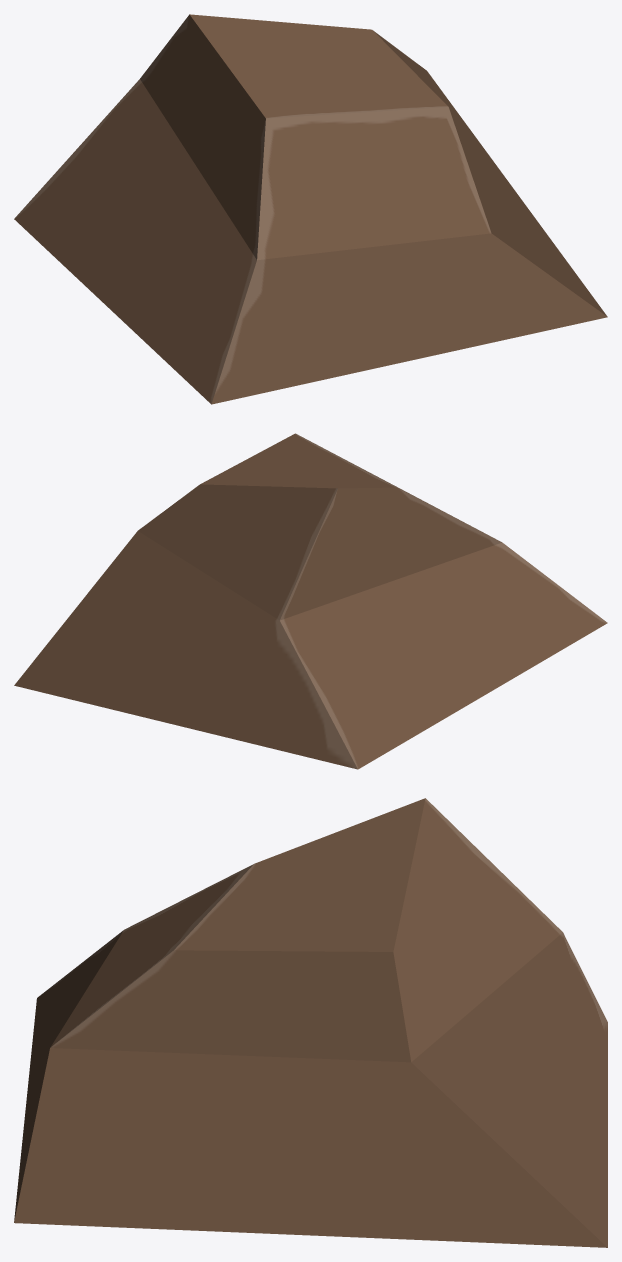
File: RockSmall01.fbx
3 views of the same model, one above another, from view 1: azimuth 30°, elevation 25°; view 2: azimuth 150°, elevation 25°; view 3: azimuth 270°, elevation 25° (orthographic). The views are drawn at different scales.
Visible parts, largest first — view 1: pCube7; view 2: pCube7; view 3: pCube7.
Boxes of the visible parts, x1,y1,x2,y2 form: pCube7: (14, 14, 607, 404); pCube7: (14, 433, 607, 769); pCube7: (14, 798, 607, 1247).
Bounding box in the file's own units: 1.27 × 0.6668 × 1.27.
